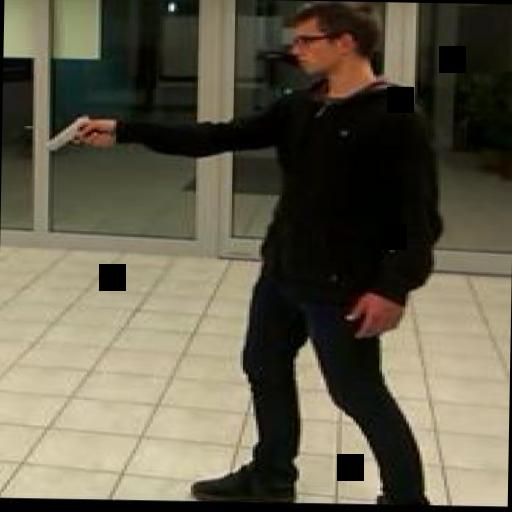Handgun: (38, 110, 108, 154)
